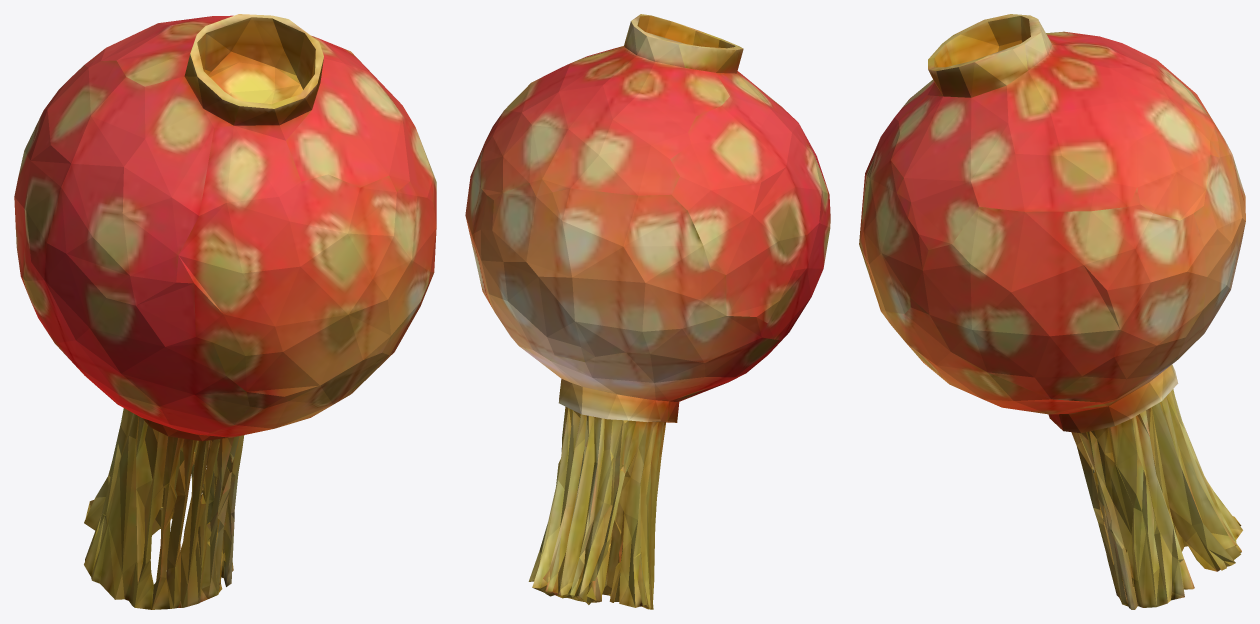
The model's file is paperlantern.glb.
3 views of the same model, side by side, from view 1: azimuth 30°, elevation 25°; view 2: azimuth 150°, elevation 25°; view 3: azimuth 270°, elevation 25° (orthographic). The views are drawn at different scales.
Visible parts, largest first — view 1: geometry_0; view 2: geometry_0; view 3: geometry_0.
Boxes of the visible parts, bbox=[...] form: geometry_0: bbox=[14, 14, 436, 609]; geometry_0: bbox=[465, 14, 830, 609]; geometry_0: bbox=[859, 14, 1245, 609].
Bounding box in the file's own units: 0.6098 × 0.9967 × 0.6199.
Materials: 1 (1 with a texture image).
